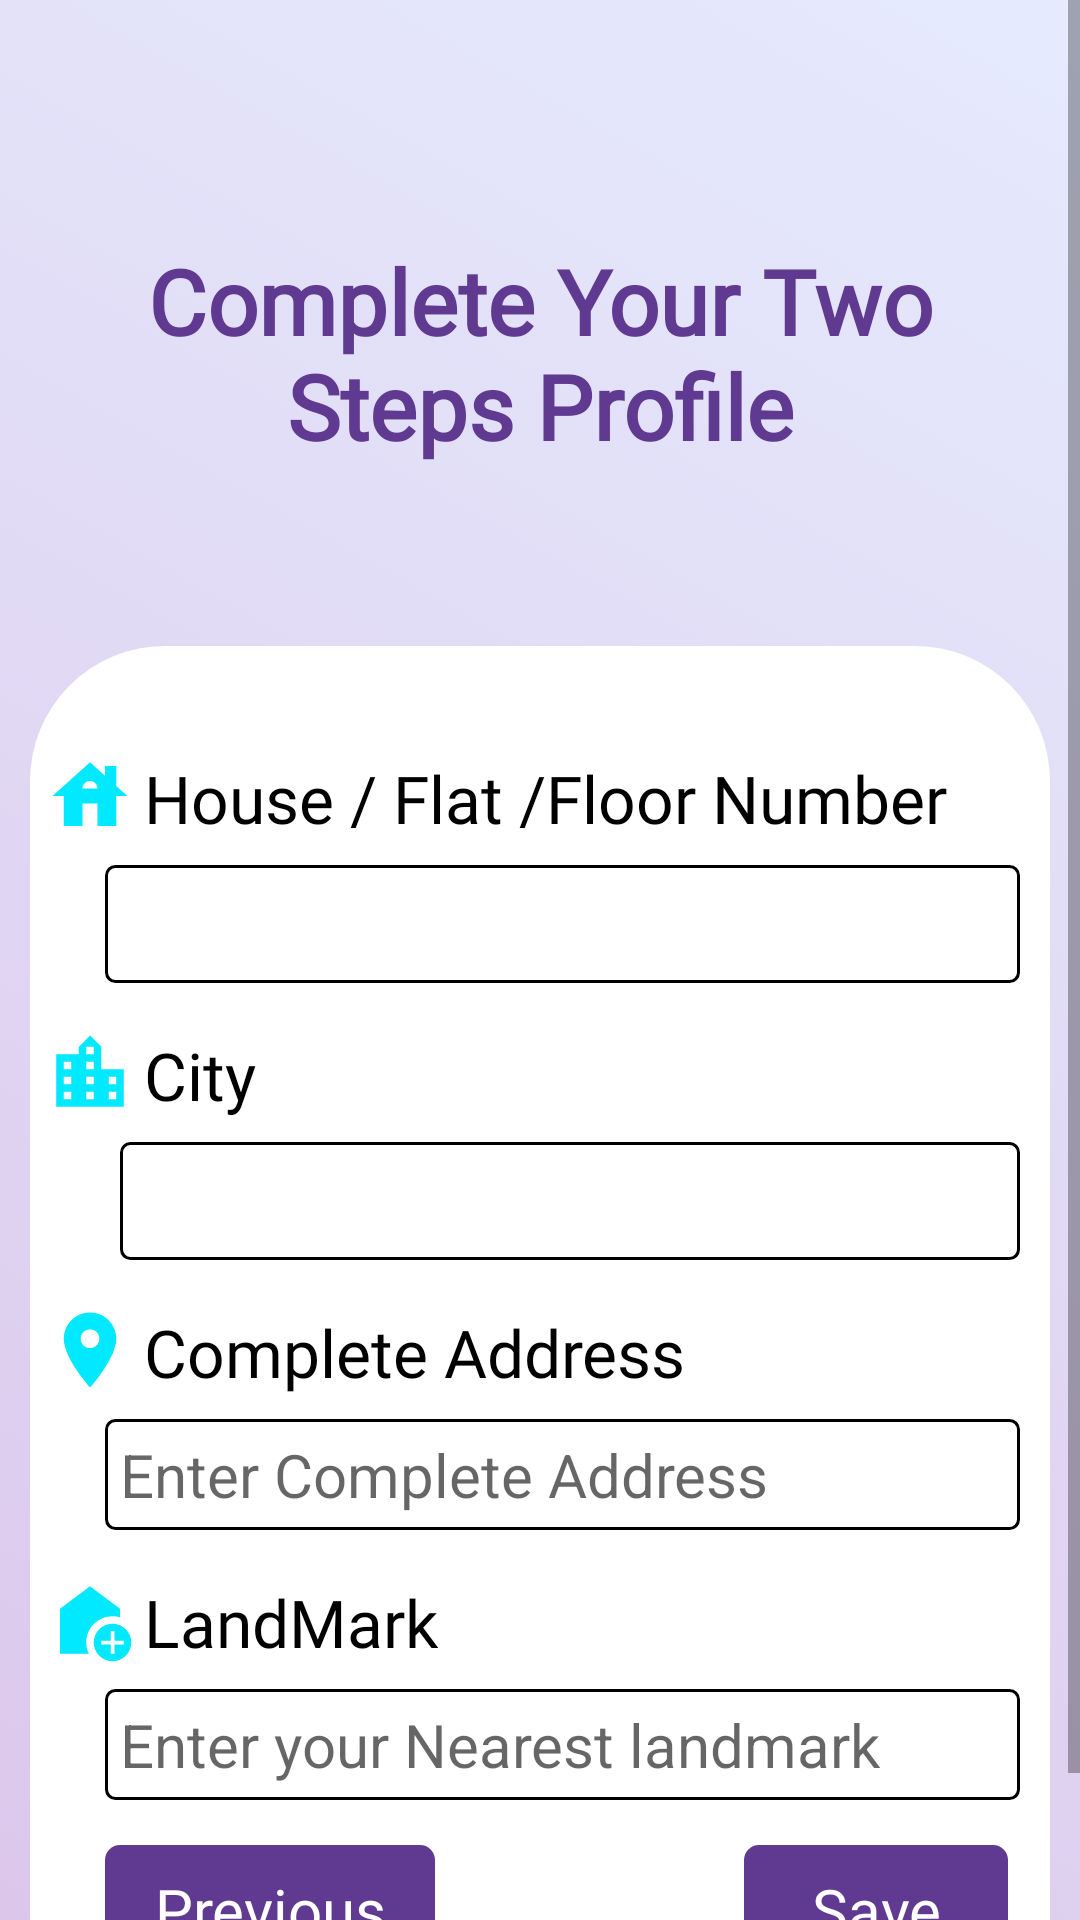

Icons on this 1080*1920 Android screen, each with its box as region(x1, y1, x2, y2):
add home: region(60, 1586, 132, 1662)
location on: region(63, 1312, 117, 1387)
